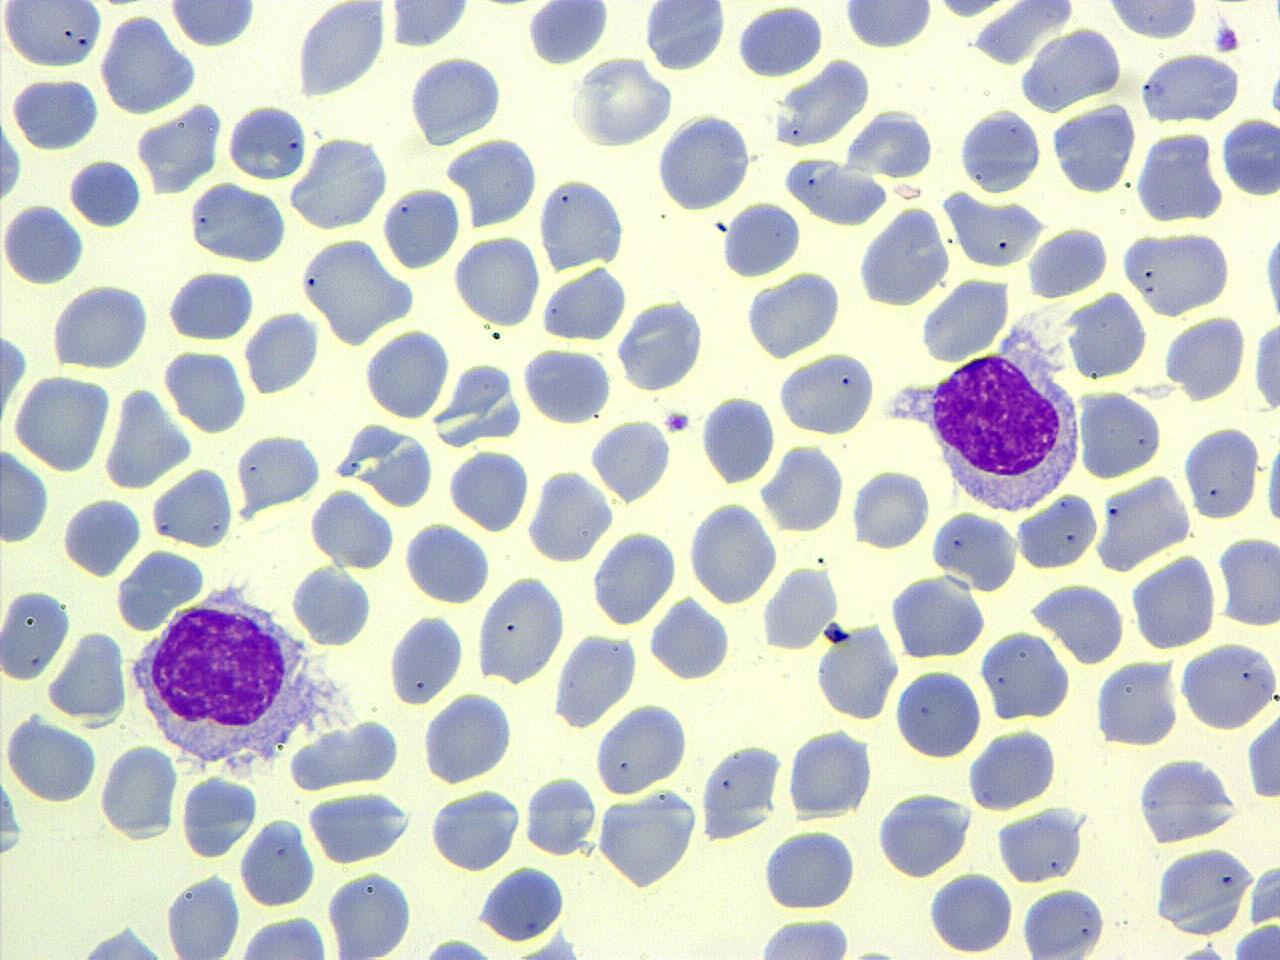Platelets: (0, 770, 25, 857), (1260, 440, 1280, 531), (416, 937, 498, 959), (849, 941, 904, 960), (1179, 939, 1225, 960), (1213, 22, 1241, 54), (663, 410, 691, 434), (1268, 71, 1280, 116), (714, 219, 730, 236)
RBC: (300, 233, 420, 350), (594, 785, 700, 891), (97, 9, 200, 118), (473, 571, 568, 687), (10, 372, 113, 474), (1095, 468, 1193, 574), (768, 56, 874, 152), (686, 499, 781, 606), (568, 55, 674, 149), (1124, 229, 1234, 319), (592, 700, 691, 798), (47, 281, 153, 372), (1177, 638, 1279, 732), (1150, 844, 1254, 936), (877, 786, 977, 880), (406, 53, 506, 147), (537, 171, 630, 272), (698, 738, 788, 842), (1132, 128, 1226, 225), (886, 572, 989, 660), (775, 350, 879, 437), (978, 628, 1074, 722), (444, 136, 542, 228), (286, 716, 404, 792), (2, 712, 99, 804), (551, 630, 639, 731), (1033, 577, 1129, 669), (590, 528, 678, 628), (814, 622, 900, 724), (132, 102, 225, 196), (1049, 99, 1139, 196), (524, 469, 614, 566), (1130, 552, 1218, 651), (784, 726, 875, 821), (1076, 386, 1166, 482), (362, 325, 452, 421), (893, 666, 983, 762), (917, 274, 1014, 363), (759, 826, 860, 911), (47, 625, 127, 732), (428, 784, 523, 874), (452, 231, 541, 327), (304, 788, 414, 865), (758, 440, 848, 534), (325, 868, 416, 959), (1183, 420, 1263, 523), (402, 518, 495, 606), (97, 741, 177, 843), (1091, 658, 1179, 750), (1162, 313, 1248, 406), (758, 562, 845, 652), (308, 486, 399, 572), (386, 610, 466, 707), (160, 347, 248, 435), (926, 868, 1014, 956), (929, 510, 1021, 594), (990, 804, 1084, 886), (1137, 50, 1241, 124), (150, 463, 238, 549), (446, 446, 532, 534), (520, 345, 614, 425), (0, 584, 75, 684), (1, 200, 87, 287), (648, 595, 733, 682), (288, 563, 376, 647), (177, 772, 259, 862), (0, 2, 105, 72), (700, 392, 778, 486), (239, 816, 317, 910), (589, 416, 672, 504), (1015, 490, 1103, 573), (380, 183, 462, 272), (8, 75, 102, 152), (234, 431, 324, 511), (60, 494, 145, 578), (163, 870, 243, 958), (164, 266, 256, 342), (242, 309, 320, 398), (846, 106, 938, 181), (733, 3, 825, 78), (850, 467, 930, 553), (540, 264, 628, 342), (224, 101, 308, 181), (1018, 885, 1108, 958), (1026, 224, 1112, 299), (523, 772, 596, 860), (1217, 532, 1279, 630), (67, 156, 144, 230), (0, 444, 51, 546), (750, 914, 862, 958), (380, 0, 476, 50), (840, 2, 934, 52), (168, 0, 258, 51), (234, 912, 332, 958), (1103, 0, 1203, 41), (1246, 704, 1280, 804), (1250, 313, 1280, 419), (1, 107, 26, 213)
WBC: (128, 580, 328, 780), (924, 328, 1084, 516), (304, 230, 418, 345), (595, 786, 701, 892), (474, 572, 568, 688), (98, 10, 201, 115), (856, 200, 956, 308), (689, 495, 781, 612), (654, 110, 758, 213), (287, 132, 392, 231), (1152, 842, 1254, 940), (292, 0, 390, 102), (593, 700, 694, 798), (770, 56, 873, 152), (404, 53, 507, 148), (49, 281, 154, 374), (1135, 754, 1241, 846), (549, 626, 638, 734), (1077, 385, 1169, 489), (740, 268, 844, 360), (1018, 23, 1124, 113), (697, 737, 785, 845), (444, 132, 540, 231), (1178, 640, 1280, 732), (420, 691, 515, 789), (535, 173, 629, 272), (783, 723, 875, 824), (614, 293, 706, 394), (887, 572, 990, 662), (979, 626, 1071, 726), (875, 788, 975, 880), (135, 97, 223, 200), (776, 349, 878, 437), (3, 713, 100, 805), (525, 466, 614, 566), (363, 323, 451, 424), (592, 527, 678, 630), (758, 437, 846, 537), (760, 826, 861, 913), (188, 179, 290, 264), (815, 622, 899, 724), (1050, 99, 1138, 196), (304, 788, 413, 866), (897, 664, 985, 760), (1181, 421, 1263, 524), (967, 726, 1060, 814), (520, 341, 614, 428), (1066, 285, 1150, 382), (430, 786, 522, 874), (402, 520, 495, 607), (958, 102, 1043, 196), (1164, 310, 1248, 405), (386, 608, 465, 708), (476, 862, 570, 946), (1141, 49, 1243, 126), (994, 802, 1088, 884), (238, 814, 318, 910), (446, 446, 533, 534), (589, 415, 672, 507), (235, 428, 322, 515), (2, 199, 86, 288), (381, 181, 461, 274), (8, 74, 101, 154), (290, 562, 374, 650), (732, 4, 828, 81), (539, 261, 628, 344), (650, 594, 732, 684), (177, 770, 259, 860), (164, 867, 243, 960), (242, 306, 321, 398), (700, 391, 776, 486), (61, 494, 143, 582), (165, 265, 256, 344), (0, 585, 72, 684), (718, 198, 804, 280), (1025, 222, 1111, 302), (1020, 883, 1108, 960), (642, 1, 729, 75), (66, 154, 144, 229), (522, 1, 610, 67), (1220, 114, 1280, 199), (840, 0, 938, 52), (51, 922, 191, 958), (754, 917, 866, 958), (384, 0, 474, 51), (168, 0, 257, 51), (1101, 0, 1203, 41), (0, 768, 26, 861), (1260, 220, 1280, 335)
